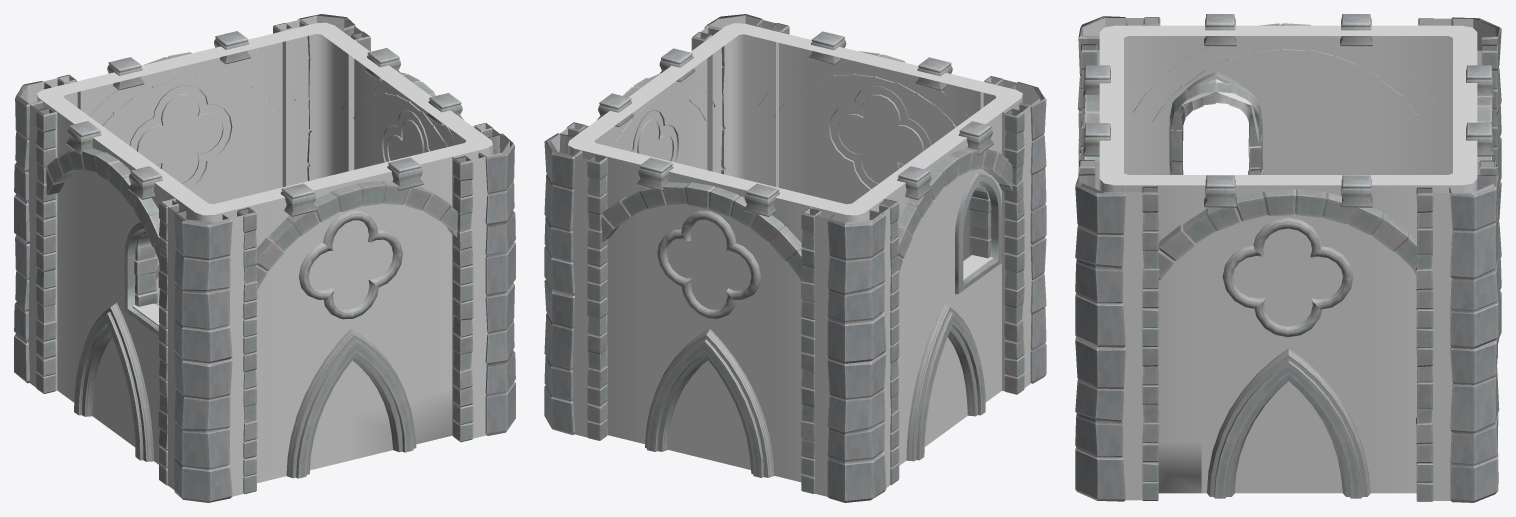
File: SM_TowerF_Mid_02.fbx
The picture shows the model from 3 angles, left to right: view 1: azimuth 30°, elevation 25°; view 2: azimuth 150°, elevation 25°; view 3: azimuth 270°, elevation 25°; orthographic projection. The views are drawn at different scales.
Visible parts, largest first — view 1: SM_TowerF_Mid_02_LOD0; view 2: SM_TowerF_Mid_02_LOD0; view 3: SM_TowerF_Mid_02_LOD0.
Boxes of the visible parts, <box> form: SM_TowerF_Mid_02_LOD0: <box>14,14,515,502</box>; SM_TowerF_Mid_02_LOD0: <box>544,14,1046,502</box>; SM_TowerF_Mid_02_LOD0: <box>1075,14,1501,502</box>.
Size of what is drawn, in the model's own units: 11.29 by 9.18 by 11.29.
